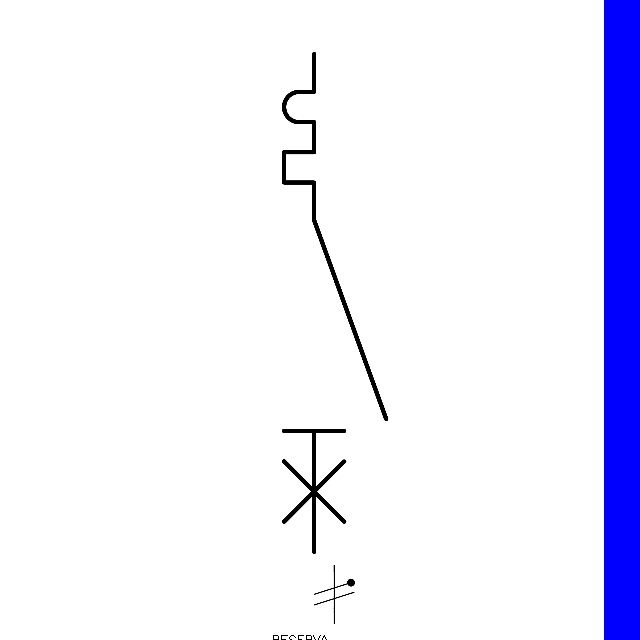interruptor_termomagnetico: (271, 41, 399, 565)
